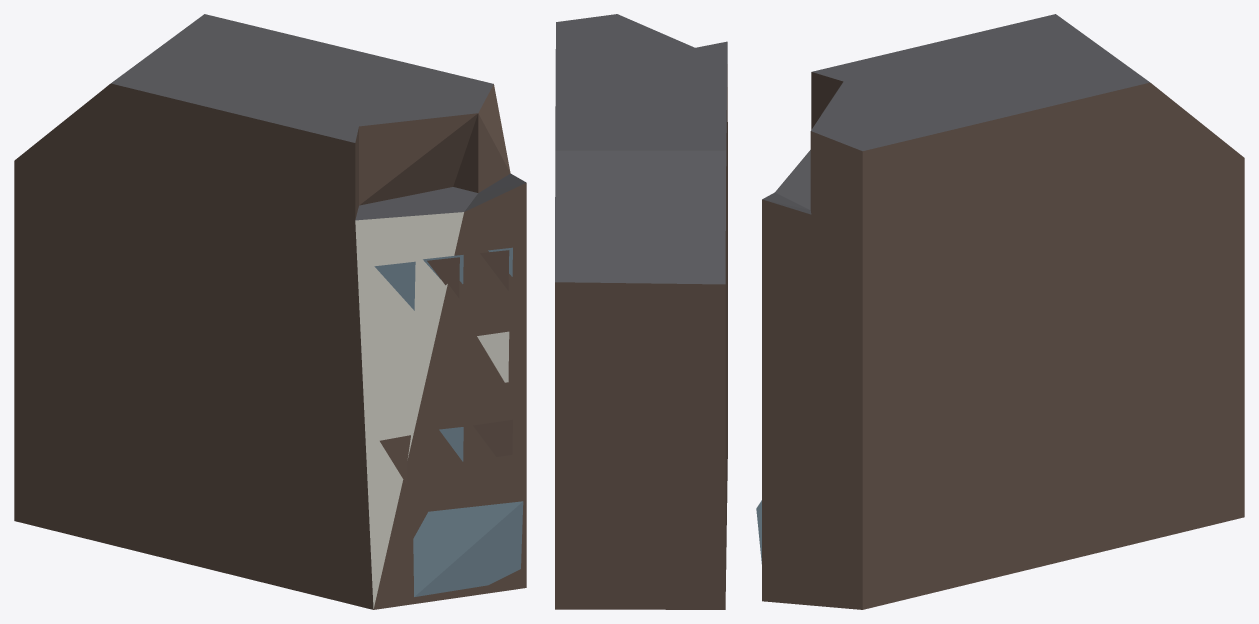
File: torture-museum.lod2.glb
3 renders of one model, left to right at view 1: azimuth 30°, elevation 25°; view 2: azimuth 150°, elevation 25°; view 3: azimuth 270°, elevation 25°, orthographic. The views are drawn at different scales.
Visible parts, largest first — view 1: lod2; view 2: lod2; view 3: lod2.
Part boxes in pixels (<box>): lod2: <box>14,14,526,609</box>; lod2: <box>555,14,727,609</box>; lod2: <box>756,14,1244,609</box>.
Bounding box in the file's own units: 12.87 × 17.05 × 16.45.
